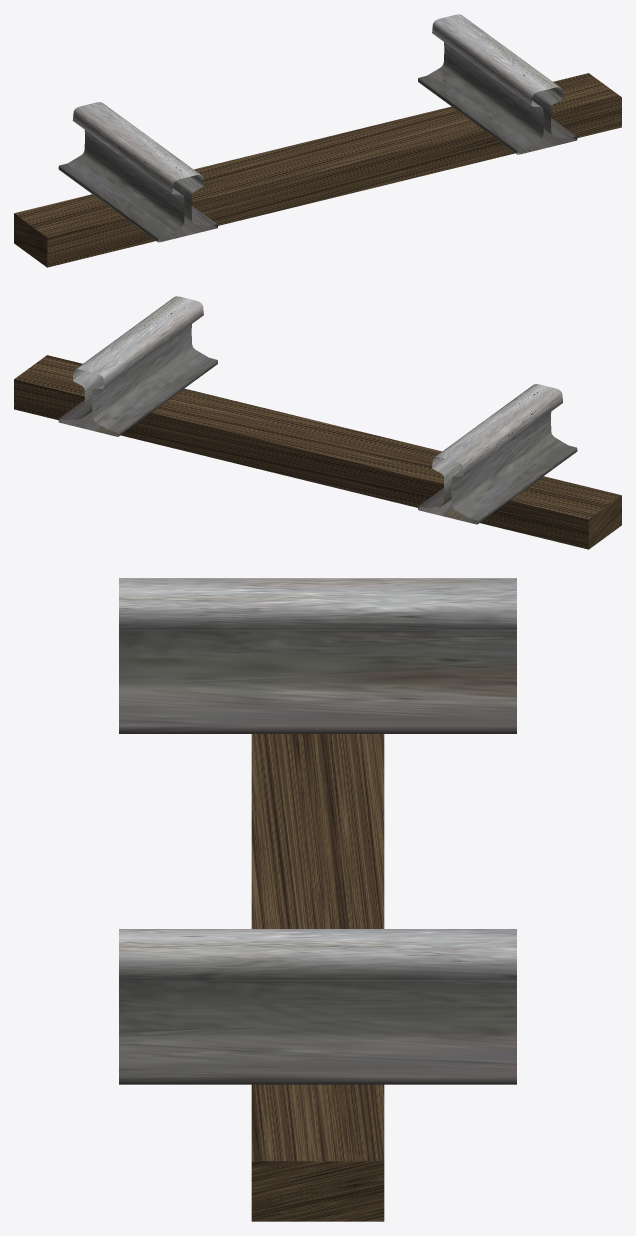
The model's file is singlerailtexturedJoined.obj.
3 renders of one model, top to bottom at view 1: azimuth 30°, elevation 25°; view 2: azimuth 150°, elevation 25°; view 3: azimuth 270°, elevation 25°, orthographic. The views are drawn at different scales.
Visible parts, largest first — view 1: rail_railPiece; view 2: rail_railPiece; view 3: rail_railPiece.
Boxes of the visible parts, <box> form: rail_railPiece: <box>14,14,621,267</box>; rail_railPiece: <box>14,296,621,549</box>; rail_railPiece: <box>119,578,516,1221</box>.
Bounding box in the file's own units: 8 × 1.18 × 2.4.
3 materials, 3 textured.
